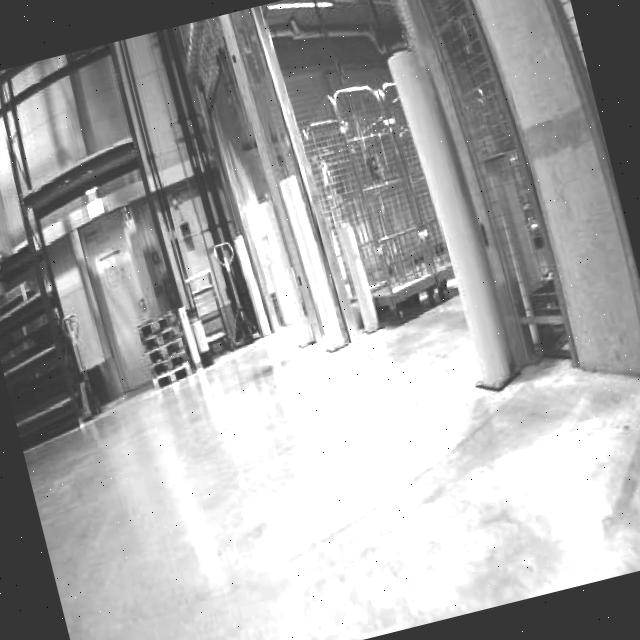ground: (7, 231, 640, 640)
pallet: (290, 71, 461, 333), (0, 69, 98, 460), (0, 253, 93, 457), (481, 149, 557, 347), (123, 266, 237, 390), (342, 250, 461, 332), (132, 306, 195, 389), (521, 273, 573, 365), (180, 266, 232, 356), (0, 275, 39, 324)
